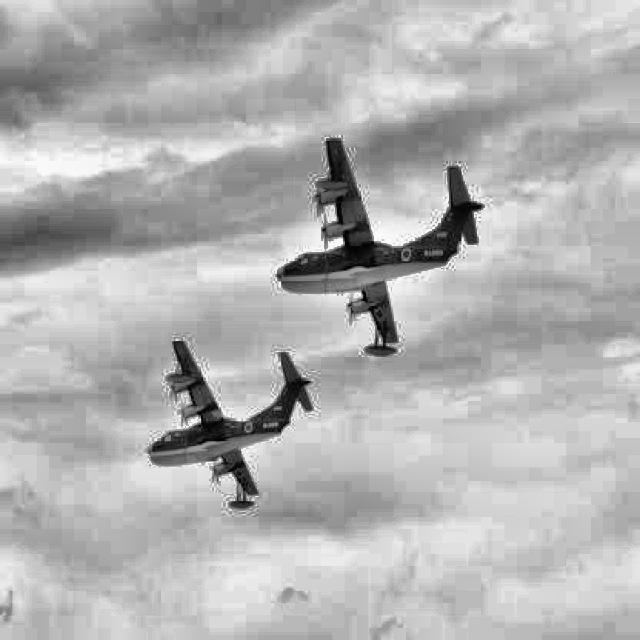US2: (276, 138, 484, 358), (147, 339, 315, 510)
